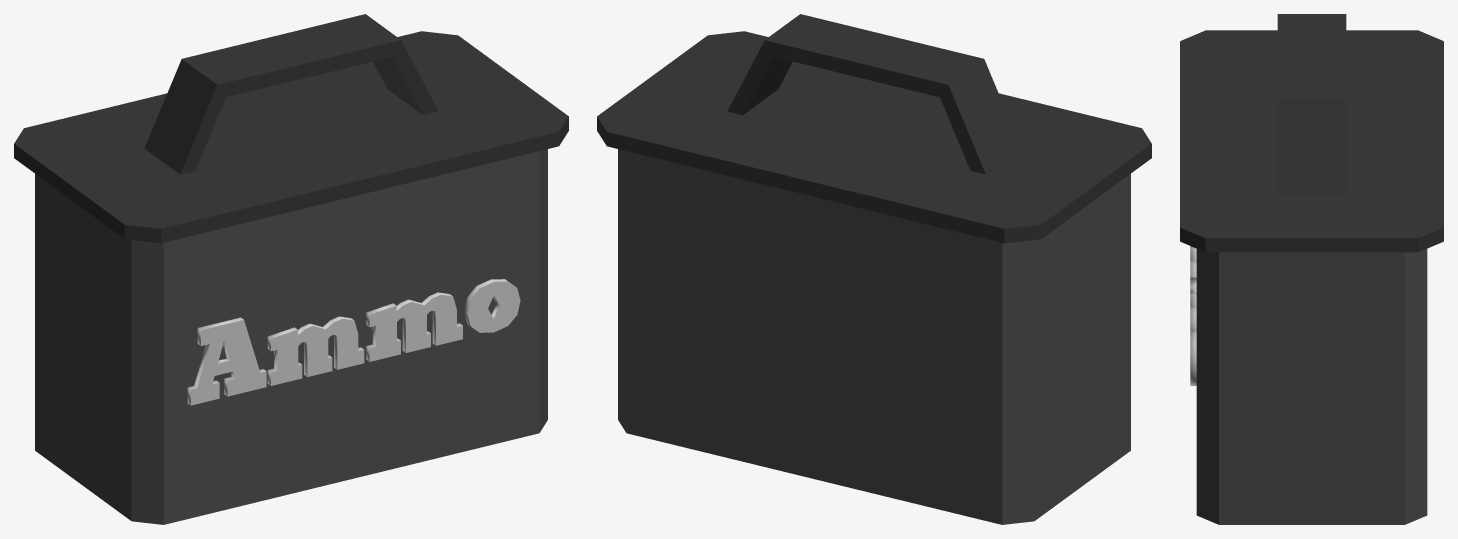
The model's file is Ammo_Can.glb.
The picture shows the model from 3 angles, left to right: view 1: azimuth 30°, elevation 25°; view 2: azimuth 150°, elevation 25°; view 3: azimuth 270°, elevation 25°; orthographic projection. The views are drawn at different scales.
Visible parts, largest first — view 1: Ammo_Can; view 2: Ammo_Can; view 3: Ammo_Can.
Boxes of the visible parts, x1,y1,x2,y2 form: Ammo_Can: (14, 14, 568, 524); Ammo_Can: (597, 14, 1151, 524); Ammo_Can: (1180, 14, 1443, 524).
Bounding box in the file's own units: 0.3199 × 0.2654 × 0.1715.
1 material, 1 textured.
